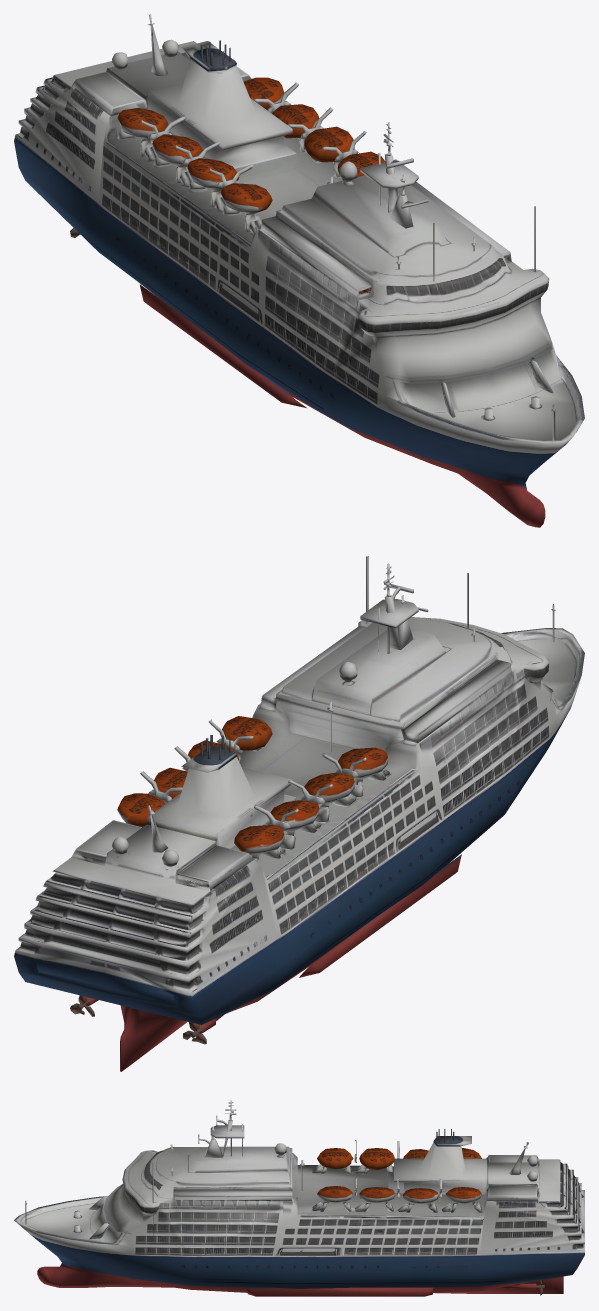
File: original_glb.glb
3 renders of one model, top to bottom at view 1: azimuth 30°, elevation 25°; view 2: azimuth 150°, elevation 25°; view 3: azimuth 270°, elevation 25°, orthographic. The views are drawn at different scales.
Visible parts, largest first — view 1: White Balcony Liner; view 2: White Balcony Liner; view 3: White Balcony Liner.
Boxes of the visible parts, left/top/right/bottom form: White Balcony Liner: left=14, top=14, right=584, bottom=527; White Balcony Liner: left=14, top=556, right=584, bottom=1071; White Balcony Liner: left=14, top=1100, right=584, bottom=1296.
Size of the model in its own units: 0.252 by 0.373 by 0.998.
Materials: 1 (1 with a texture image).
